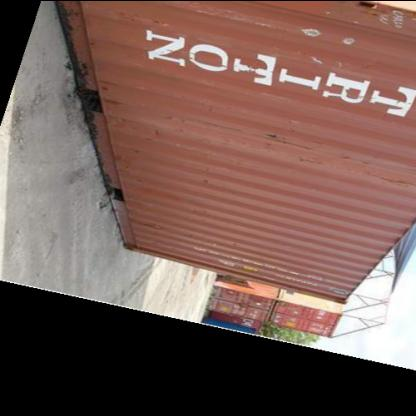Damage: (299, 16, 361, 70), (258, 120, 326, 166), (334, 149, 410, 189), (95, 77, 134, 112), (194, 172, 219, 188)
